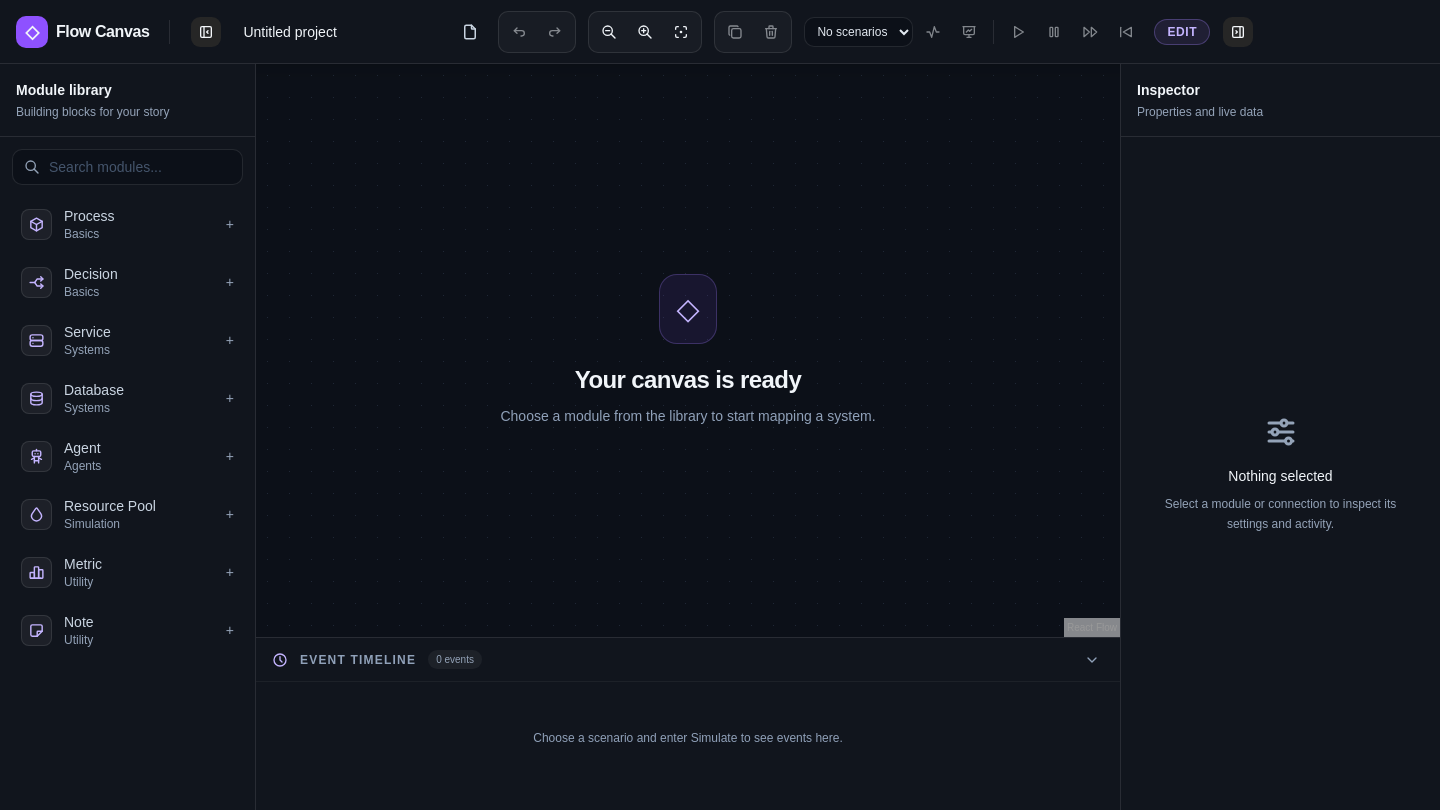
studio shell › filters the module list
Type "database" into the search field labelled "Search modules..." at {"x": 128, "y": 167}, box 12,149 -> 243,185
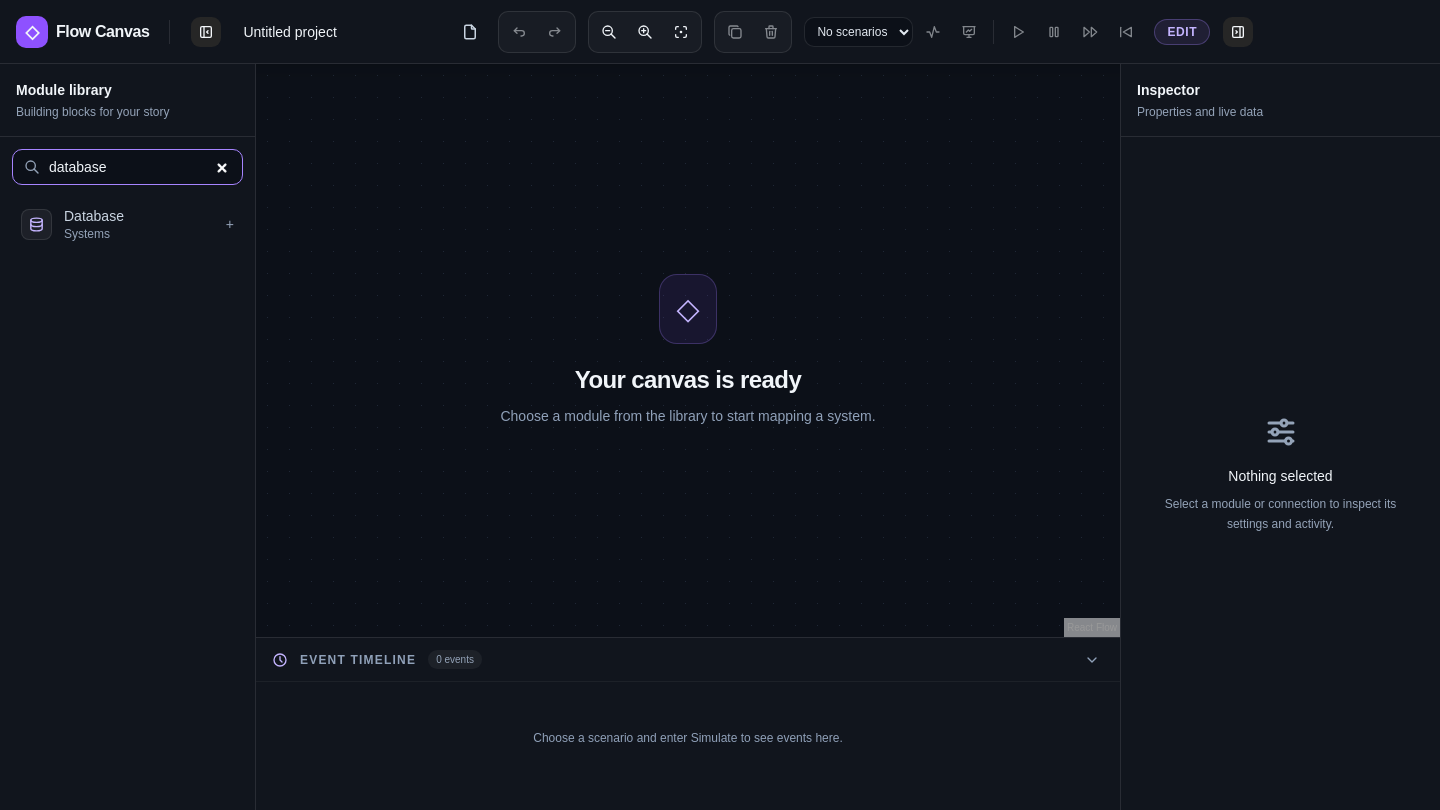
expect the text "Database" is shown: met, box 64,208 -> 124,224
expect the button "Resource Pool" is gone: met
